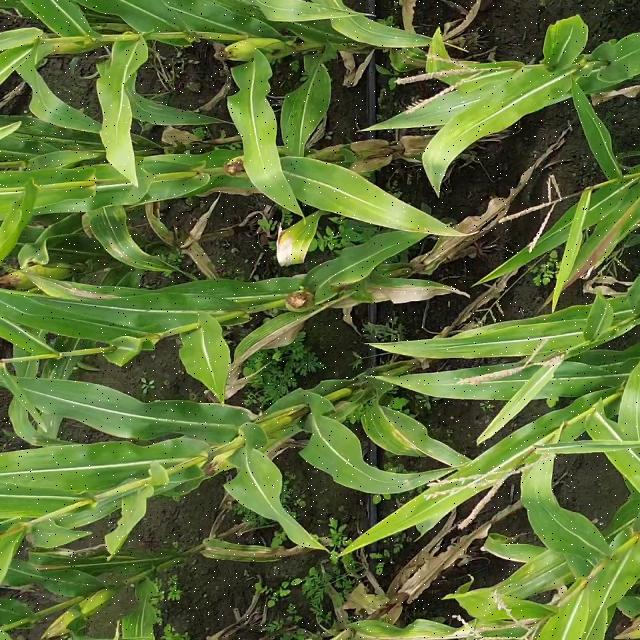gray-leaf-spot: (74, 552, 150, 575), (23, 123, 85, 147), (501, 568, 549, 598), (286, 93, 320, 131), (132, 590, 154, 636), (94, 206, 126, 225)
northern-leaf-blight: (364, 618, 489, 640), (206, 537, 280, 563), (587, 215, 621, 266), (63, 284, 132, 306), (389, 419, 430, 455), (102, 229, 134, 260), (275, 233, 307, 264)
